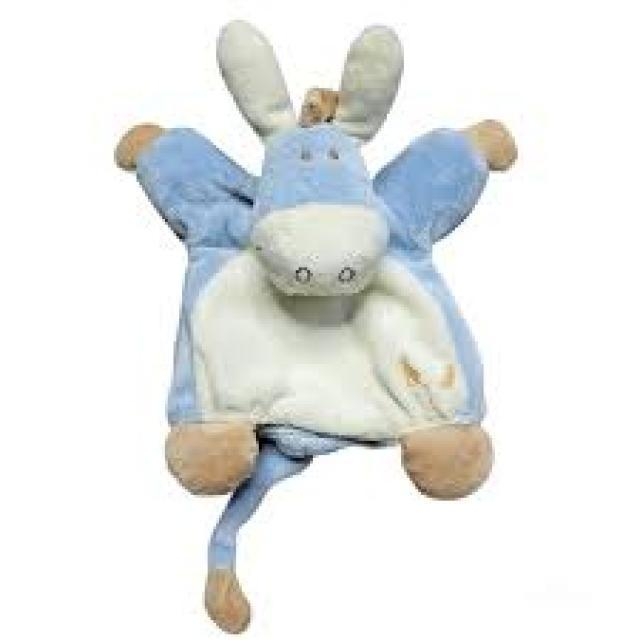soft-toy: (116, 22, 519, 633)
